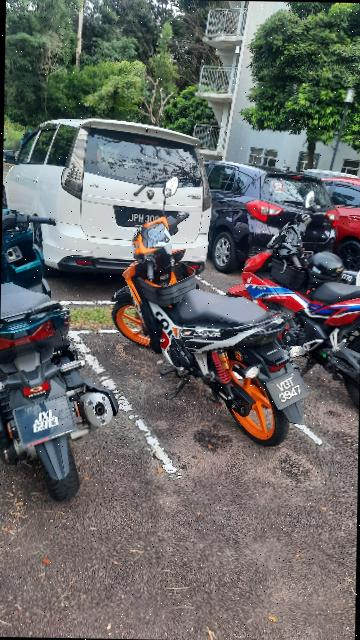License_Plate: (17, 392, 74, 445), (115, 200, 183, 233), (274, 366, 315, 416)
car: (5, 111, 216, 285), (201, 154, 337, 276)
motorcycle: (106, 181, 320, 447), (1, 207, 127, 508), (230, 184, 360, 411)
